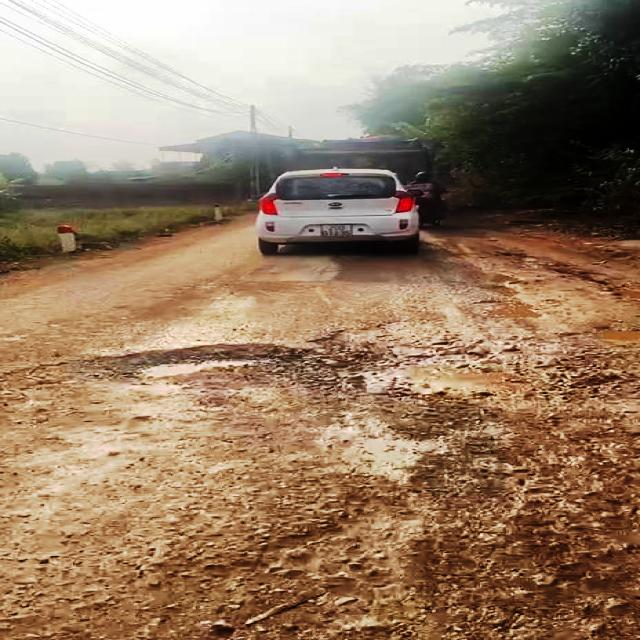pothole: (308, 333, 553, 405), (0, 340, 317, 395), (579, 326, 640, 349)
